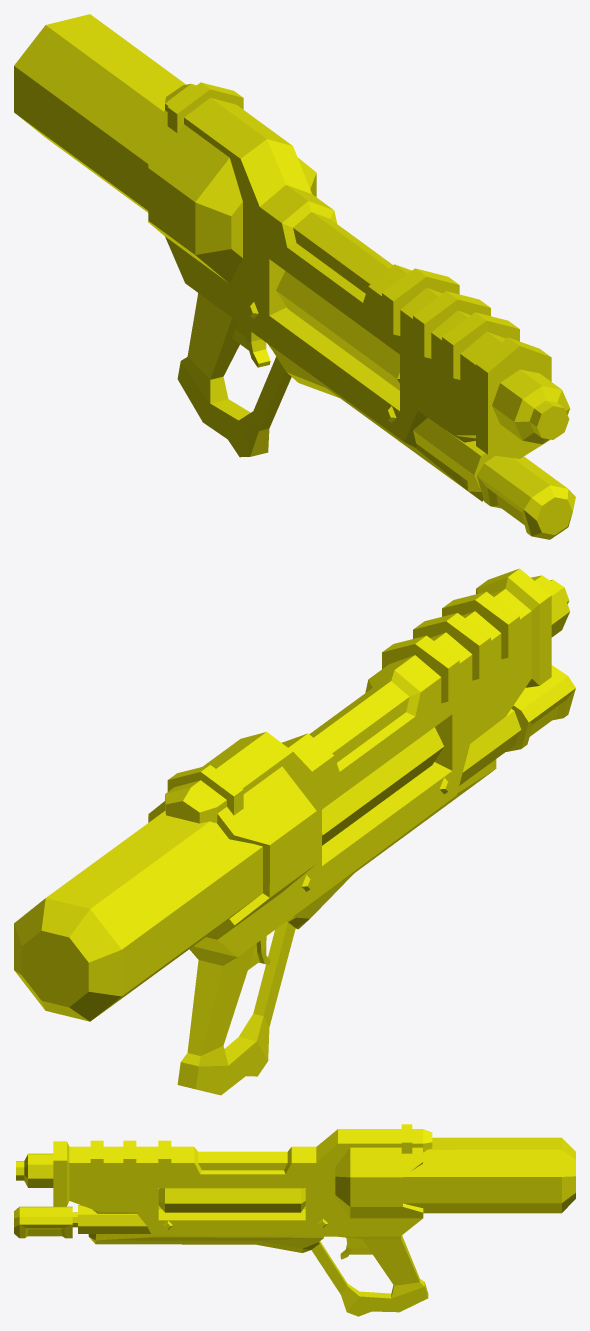
Rendered from SM_Wep_Watergun_02.glb.
3 renders of one model, top to bottom at view 1: azimuth 30°, elevation 25°; view 2: azimuth 150°, elevation 25°; view 3: azimuth 270°, elevation 25°, orthographic. The views are drawn at different scales.
Visible parts, largest first — view 1: SM_Wep_Watergun_02, Watergun_02_Refill, Watergun_02_Pump, Watergun_02_Trigger; view 2: SM_Wep_Watergun_02, Watergun_02_Refill, Watergun_02_Pump; view 3: SM_Wep_Watergun_02, Watergun_02_Refill, Watergun_02_Pump, Watergun_02_Trigger.
Boxes of the visible parts, box(x1,y1,x2,y2) form: SM_Wep_Watergun_02: box(148, 82, 570, 501); Watergun_02_Refill: box(14, 14, 185, 212); Watergun_02_Pump: box(476, 455, 575, 539); Watergun_02_Trigger: box(232, 322, 270, 367); SM_Wep_Watergun_02: box(148, 568, 569, 1095); Watergun_02_Refill: box(14, 811, 262, 1021); Watergun_02_Pump: box(506, 665, 575, 751); SM_Wep_Watergun_02: box(16, 1124, 432, 1316); Watergun_02_Refill: box(403, 1137, 575, 1213); Watergun_02_Pump: box(14, 1206, 77, 1238); Watergun_02_Trigger: box(340, 1237, 372, 1259).
Bounding box in the file's own units: 0.1231 × 0.3265 × 0.8759.
Materials: 1 (1 with a texture image).
